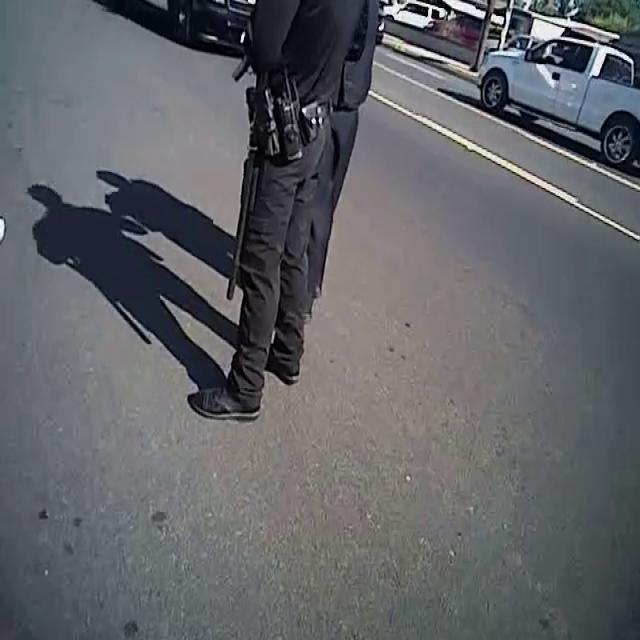gun: (223, 41, 261, 95)
